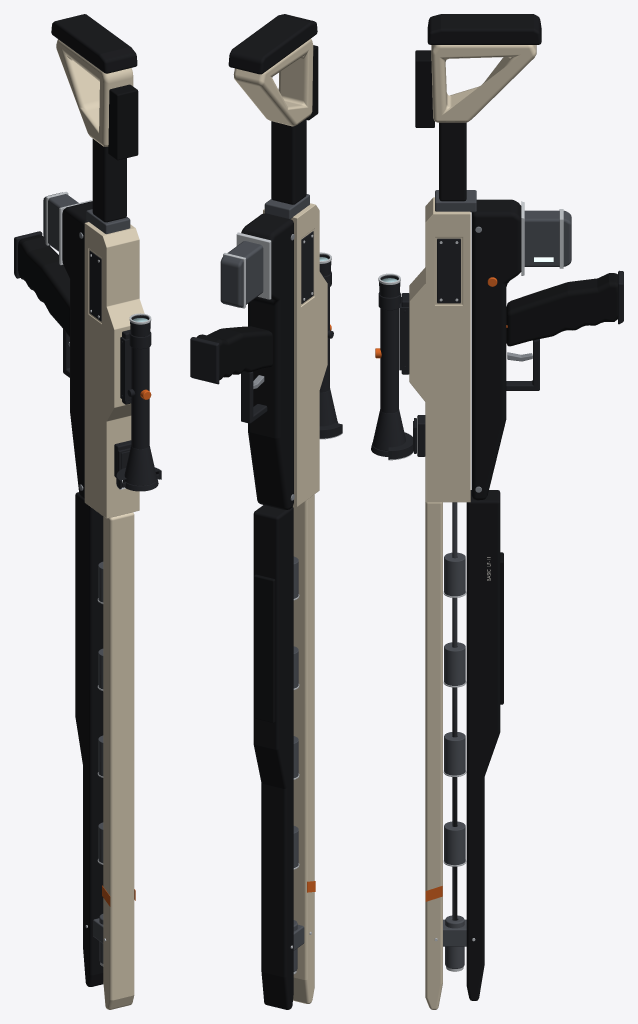
The model's file is BASIC-11-v2.1.fbx.
3 views of the same model, side by side, from view 1: azimuth 30°, elevation 25°; view 2: azimuth 150°, elevation 25°; view 3: azimuth 270°, elevation 25° (orthographic). The views are drawn at different scales.
Parts seen in each view (by area): view 1: rail_top, receiver, rail_bottom, lower, stock, grip, butt_pad, stock_spine, cheek_rest, scope_tube, scope_objective, coils (+4 smaller); view 2: rail_bottom, lower, rail_top, receiver, stock, rail_grip, butt_pad, stock_spine, grip, energy_cell, grip_cap, coils (+7 smaller); view 3: receiver, rail_bottom, lower, rail_top, grip, stock, coils, butt_pad, energy_cell, stock_spine, scope_tube, linear_core (+8 smaller).
Part boxes in pixels (box(x1,y1,x2,y2)): rail_top: box(103, 512, 134, 1009); receiver: box(84, 222, 144, 518); rail_bottom: box(75, 492, 103, 986); lower: box(62, 201, 92, 498); stock: box(56, 39, 133, 146); grip: box(18, 235, 69, 337); butt_pad: box(51, 14, 137, 73); stock_spine: box(92, 139, 126, 222); cheek_rest: box(108, 84, 138, 160); scope_tube: box(131, 347, 149, 449); scope_objective: box(124, 445, 156, 485); coils: box(98, 561, 103, 863); rail_bottom: box(253, 505, 293, 1009); lower: box(241, 213, 293, 509); rail_top: box(293, 494, 314, 1003); receiver: box(263, 203, 327, 506); stock: box(233, 38, 313, 126); rail_grip: box(253, 574, 275, 723); butt_pad: box(228, 14, 317, 74); stock_spine: box(271, 118, 306, 204); grip: box(196, 326, 272, 380); energy_cell: box(220, 241, 263, 307); grip_cap: box(190, 337, 219, 384); coils: box(293, 556, 298, 867); receiver: box(409, 197, 470, 502); rail_bottom: box(466, 490, 500, 1000); lower: box(471, 199, 521, 500); rail_top: box(425, 502, 442, 1009); grip: box(506, 273, 617, 346); stock: box(431, 45, 536, 122); coils: box(444, 552, 465, 865); butt_pad: box(427, 14, 541, 44); energy_cell: box(524, 210, 571, 266); stock_spine: box(439, 122, 466, 201); scope_tube: box(380, 308, 398, 413); linear_core: box(452, 502, 457, 920).
Size of the model in its own units: 0.05 by 1.1 by 0.2559.
